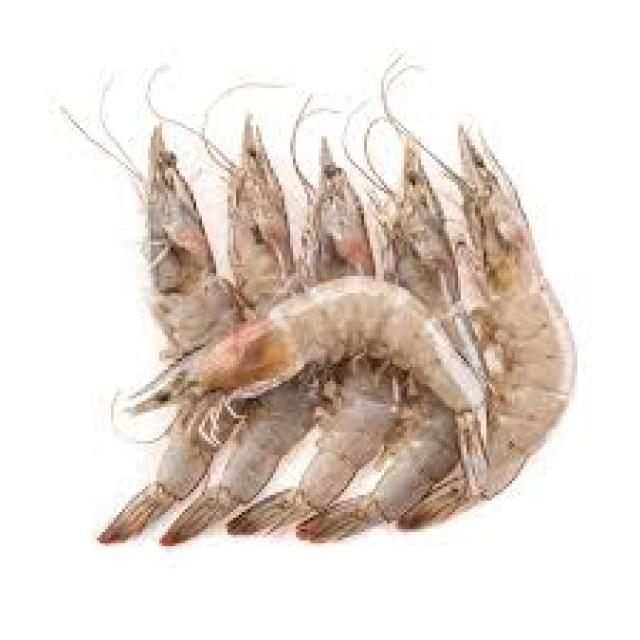shrimp: (134, 276, 486, 495)
